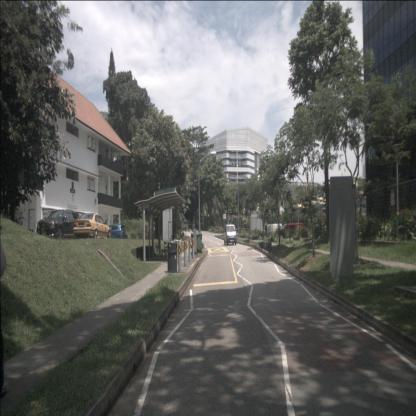vehicle-car: (36, 209, 84, 242), (73, 213, 111, 240), (104, 224, 127, 241), (280, 223, 304, 239), (265, 224, 282, 239), (224, 224, 236, 245)
